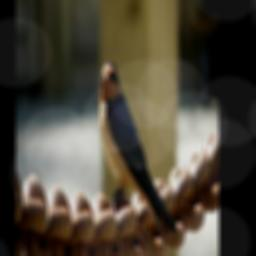Swallow: (97, 60, 189, 256)
